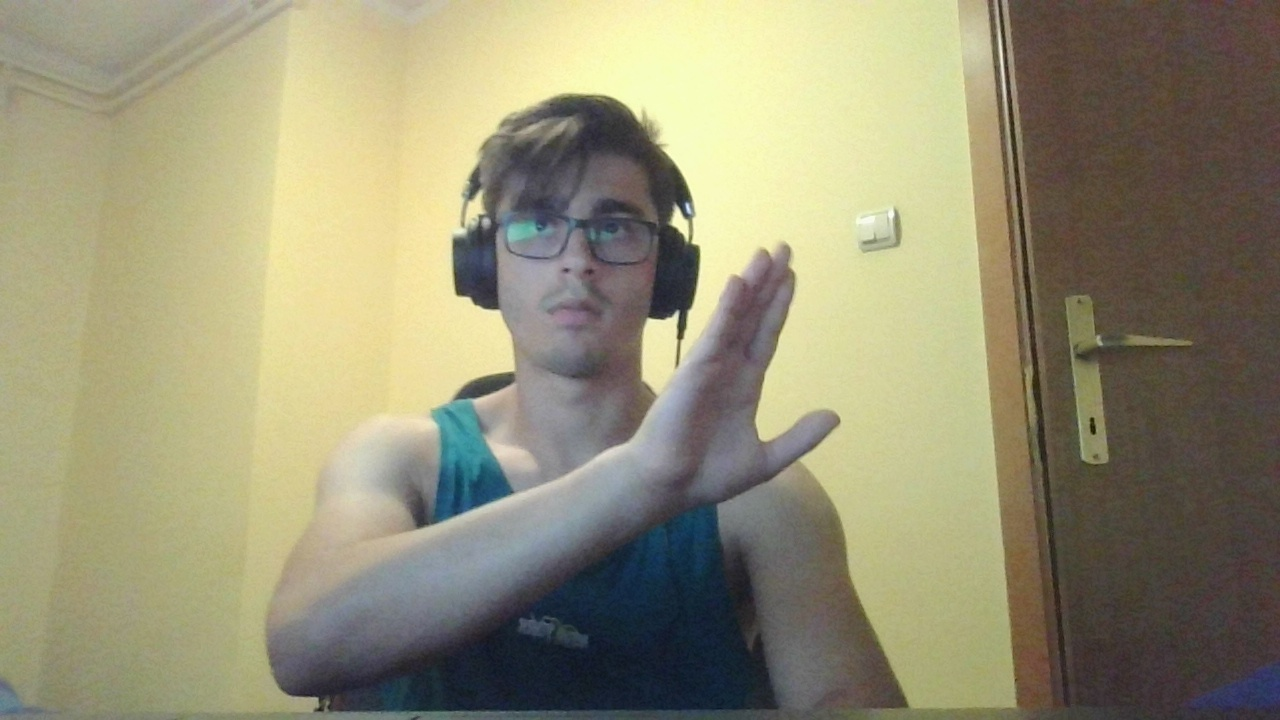Stop: (638, 241, 843, 499)
